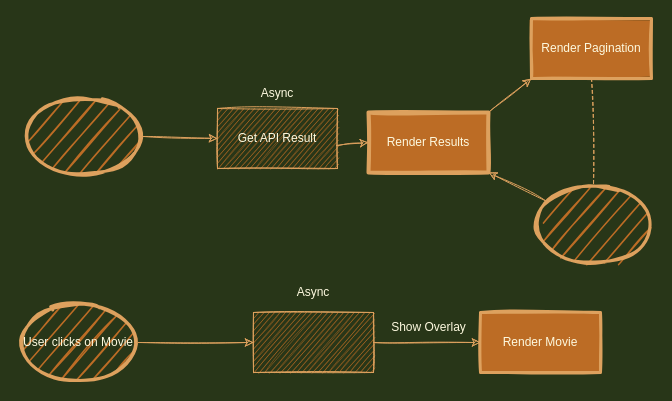
This 672x401 diagram has some shape labels left out. Each missing label, with the centre of its shape:
"Get movie from API" goes at point (313, 342).
"User Click Pagination" goes at point (593, 224).
"User searches movies/clicks on nav buttons" goes at point (83, 136).
